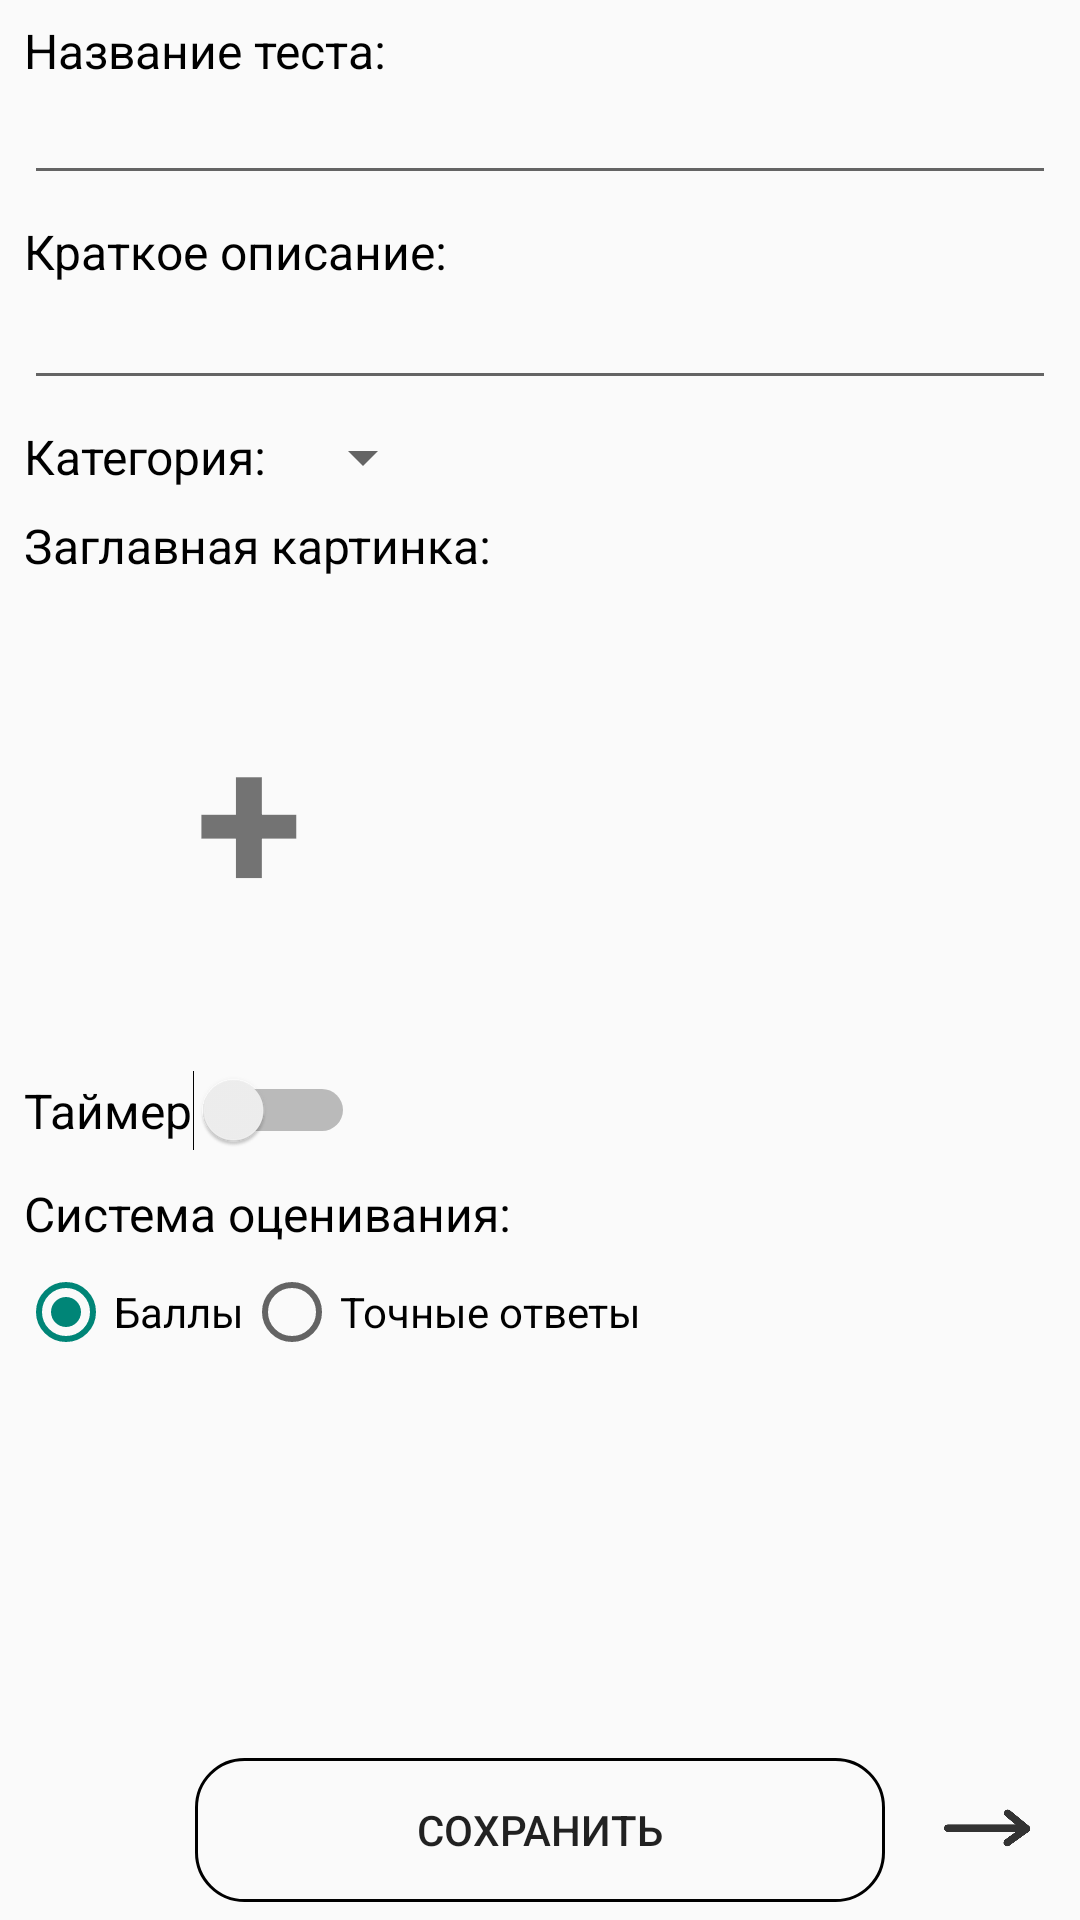

Icons on this 1080w x 1920h Android screen, each with the point to tap as [x,y]:
forward: [987,1827]
